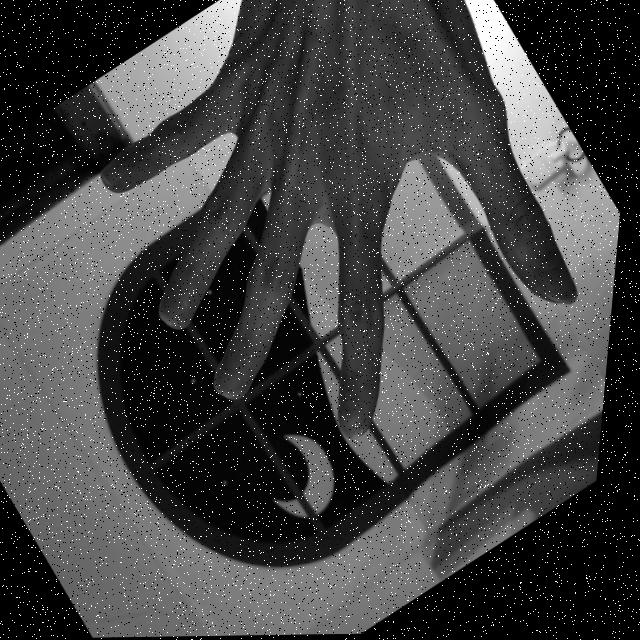hand: (14, 0, 640, 506)
